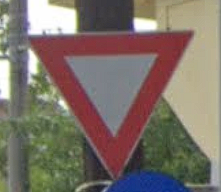cedeaza: (26, 22, 196, 183)
